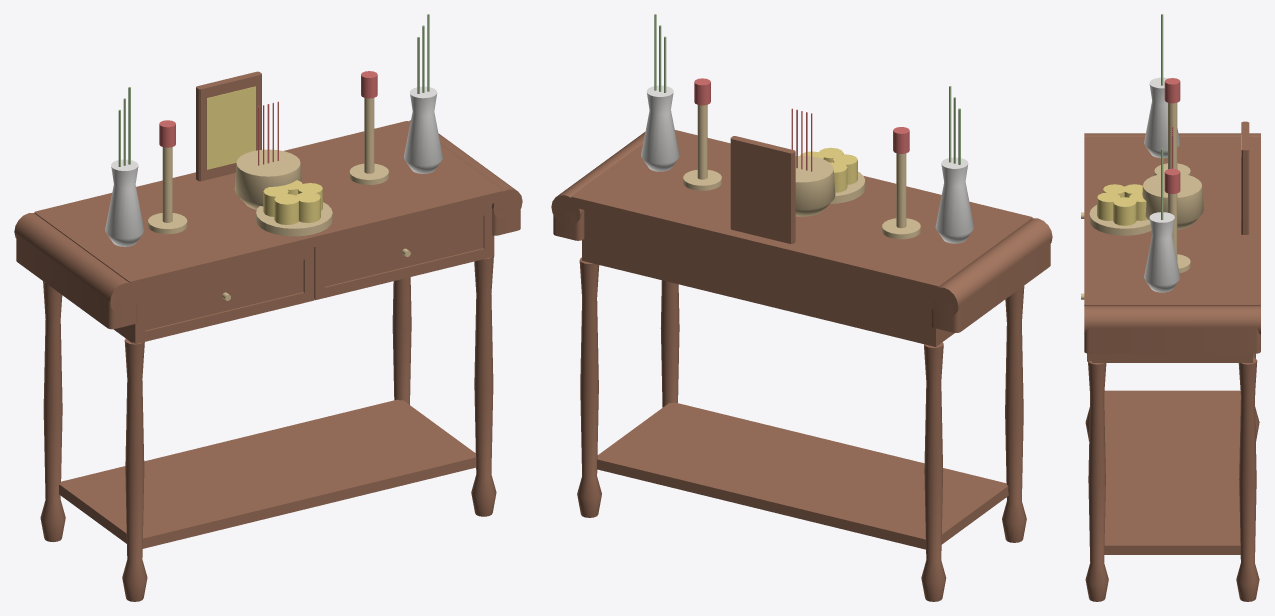
The picture shows the model from 3 angles, left to right: view 1: azimuth 30°, elevation 25°; view 2: azimuth 150°, elevation 25°; view 3: azimuth 270°, elevation 25°; orthographic projection. The views are drawn at different scales.
Parts seen in each view (by area): view 1: Bàn thờ Dài=1530; Sâu=680; view 2: Bàn thờ Dài=1530; Sâu=680; view 3: Bàn thờ Dài=1530; Sâu=680.
Boxes of the visible parts, <box> form: Bàn thờ Dài=1530; Sâu=680: <box>14,14,522,601</box>; Bàn thờ Dài=1530; Sâu=680: <box>551,14,1052,601</box>; Bàn thờ Dài=1530; Sâu=680: <box>1081,14,1260,601</box>.
Size of the model in its own units: 1.69 by 1.87 by 0.692.
